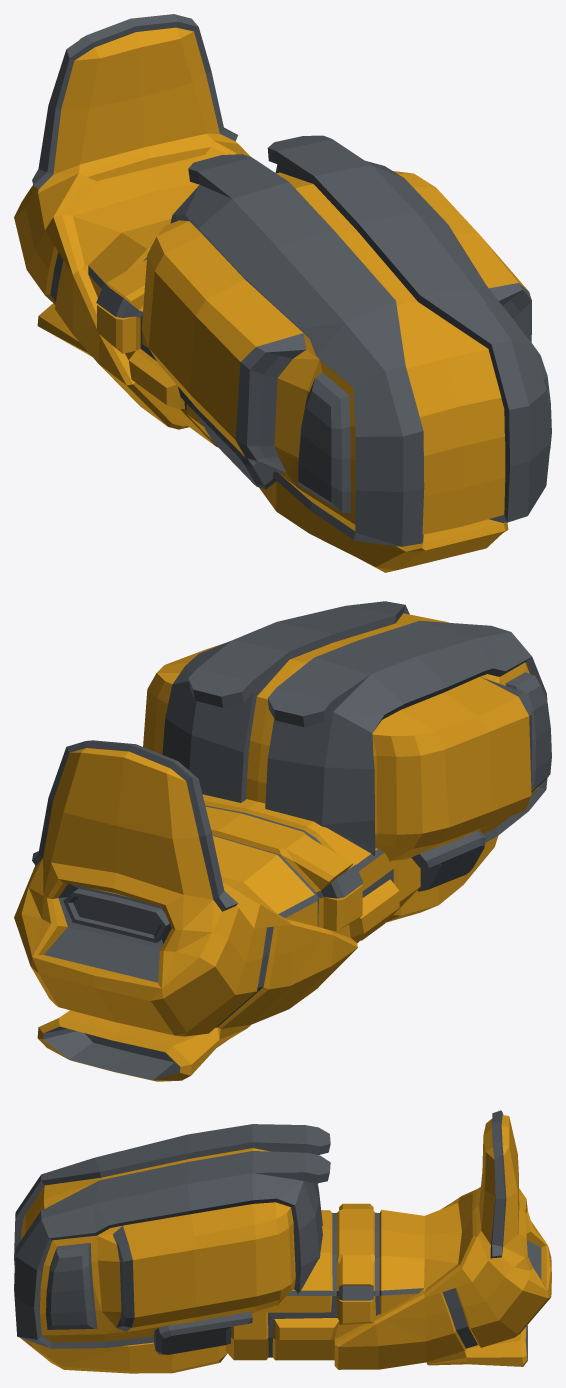
File: Personal_Vehicle_01_Neutral_Yellow.fbx
The picture shows the model from 3 angles, top to bottom: view 1: azimuth 30°, elevation 25°; view 2: azimuth 150°, elevation 25°; view 3: azimuth 270°, elevation 25°; orthographic projection. The views are drawn at different scales.
Parts seen in each view (by area): view 1: Personal_Vehicle_01_Neutral_Yellow; view 2: Personal_Vehicle_01_Neutral_Yellow; view 3: Personal_Vehicle_01_Neutral_Yellow.
Part boxes in pixels (x1=…): Personal_Vehicle_01_Neutral_Yellow: x1=14, y1=14, x2=551, y2=572; Personal_Vehicle_01_Neutral_Yellow: x1=14, y1=601, x2=551, y2=1081; Personal_Vehicle_01_Neutral_Yellow: x1=14, y1=1110, x2=551, y2=1373.
Bounding box in the file's own units: 141 × 143 × 300.
2 materials, 2 textured.
